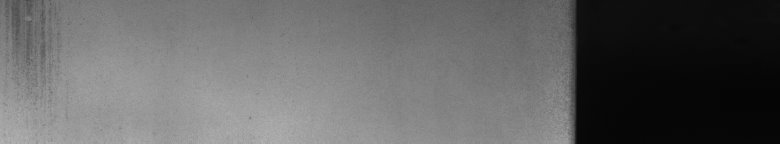ka: (4, 4, 56, 72)
